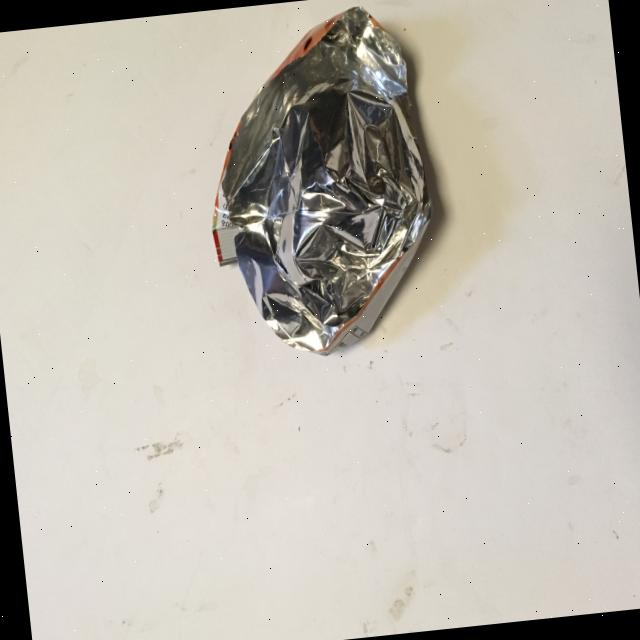plastic: (189, 0, 446, 365)
